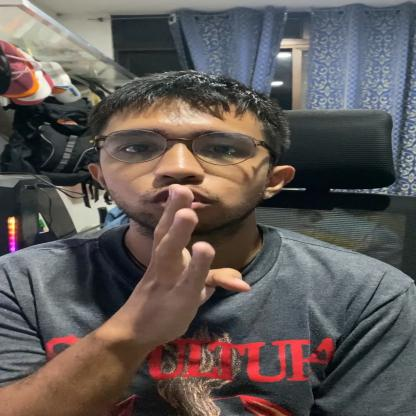Talk: (101, 62, 303, 360)
